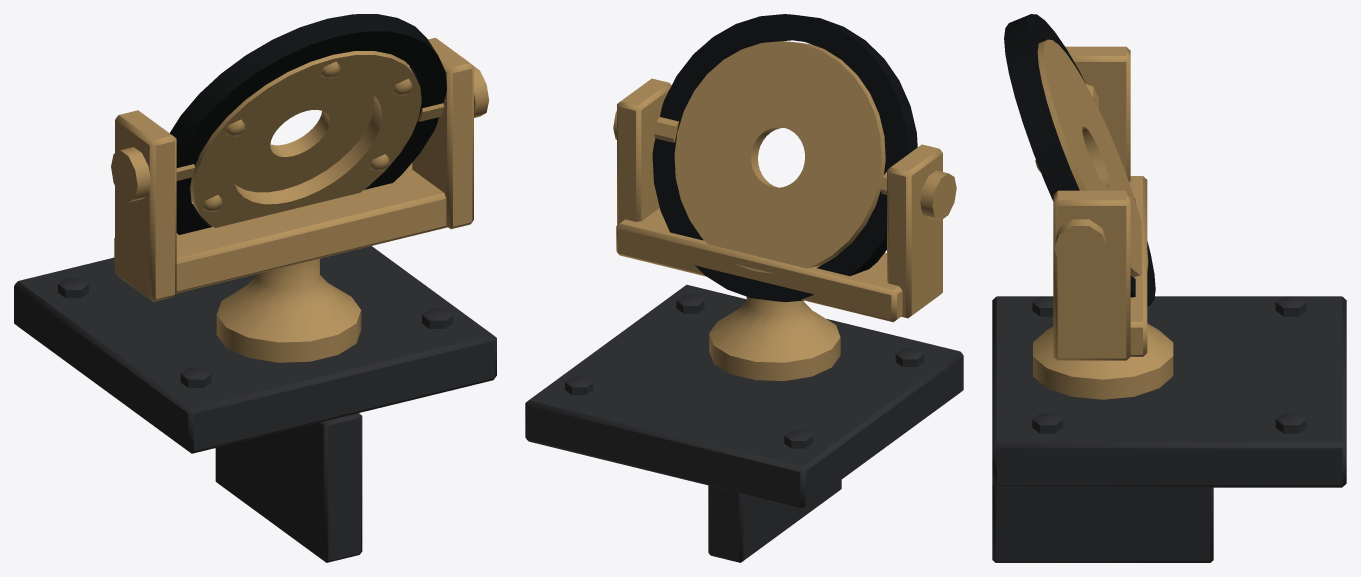
File: cradle.glb
The picture shows the model from 3 angles, left to right: view 1: azimuth 30°, elevation 25°; view 2: azimuth 150°, elevation 25°; view 3: azimuth 270°, elevation 25°; orthographic projection. The views are drawn at different scales.
Visible parts, largest first — view 1: cradle_arm, IA_cradle, cradle_ring; view 2: cradle_arm, IA_cradle, cradle_ring; view 3: cradle_arm, IA_cradle, cradle_ring.
Boxes of the visible parts, box(x1,y1,x2,y2) form: cradle_arm: box(14, 37, 496, 562); IA_cradle: box(190, 51, 421, 227); cradle_ring: box(170, 14, 446, 234); cradle_arm: box(525, 78, 963, 562); IA_cradle: box(674, 41, 885, 273); cradle_ring: box(652, 14, 917, 302); cradle_arm: box(992, 46, 1346, 562); IA_cradle: box(1035, 39, 1148, 277); cradle_ring: box(1004, 14, 1155, 305).
Bounding box in the file's own units: 0.364 × 0.5235 × 0.32.
